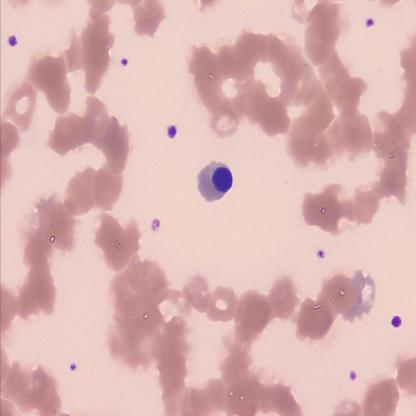NRC: (196, 157, 233, 203)
